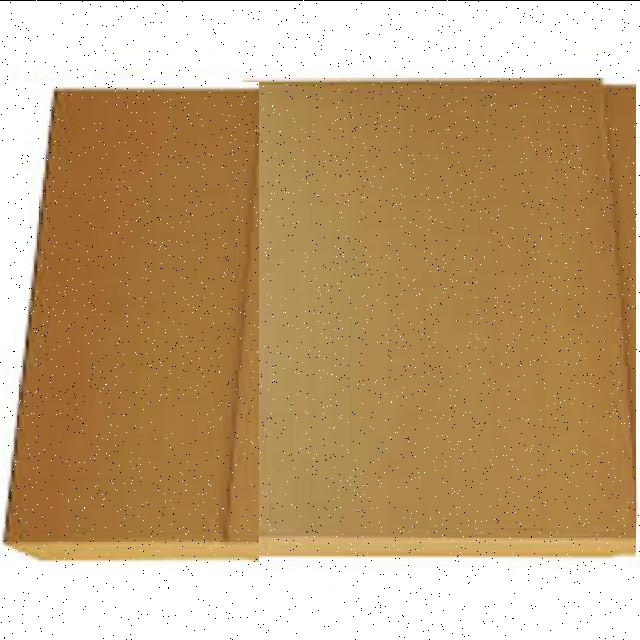normal: (230, 72, 636, 566), (0, 81, 259, 561)
